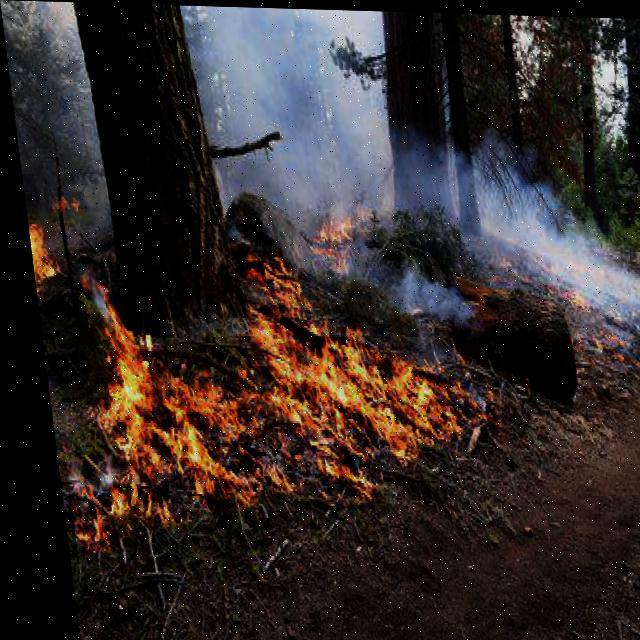Fire: (23, 192, 496, 524)
